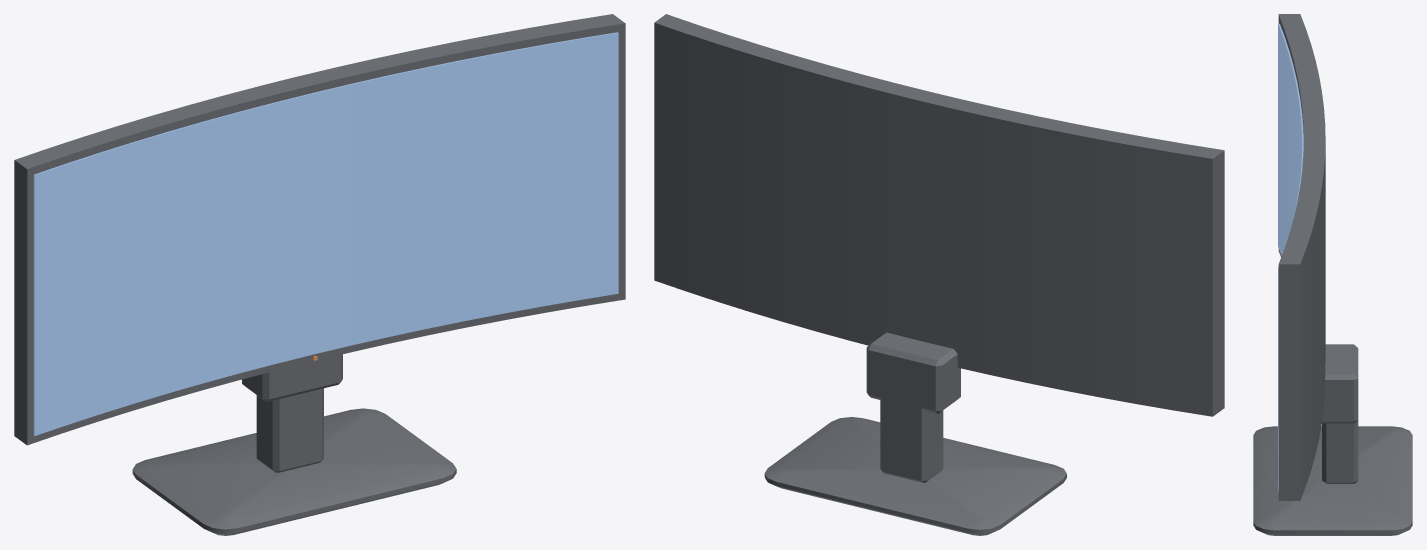
File: computers-and-desk-gadgets-monitor-34-curved-bc2883cf__38833.glb
3 views of the same model, side by side, from view 1: azimuth 30°, elevation 25°; view 2: azimuth 150°, elevation 25°; view 3: azimuth 270°, elevation 25° (orthographic). The views are drawn at different scales.
Visible parts, largest first — view 1: monitor-34-curved; view 2: monitor-34-curved; view 3: monitor-34-curved.
Part boxes in pixels (x1,y1,x2,y2): monitor-34-curved: (14,14,625,535); monitor-34-curved: (654,14,1224,535); monitor-34-curved: (1253,14,1412,535).
Bounding box in the file's own units: 0.8161 × 0.53 × 0.22.
